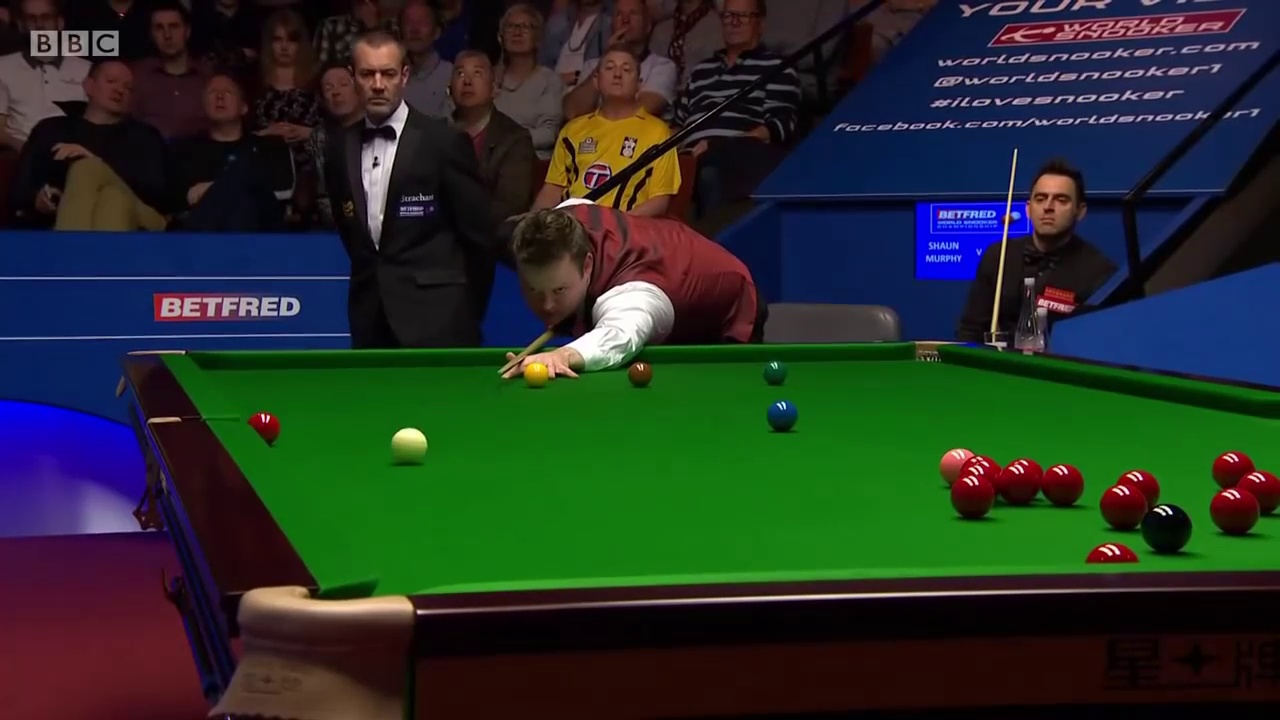black: (1144, 505, 1192, 550)
blue: (767, 399, 799, 429)
brown: (626, 362, 652, 384)
green: (761, 355, 789, 384)
red: (1208, 489, 1259, 537), (1097, 485, 1143, 533), (950, 474, 994, 518), (998, 463, 1040, 505), (1047, 465, 1085, 509)
white: (391, 427, 428, 464), (525, 362, 548, 387)
